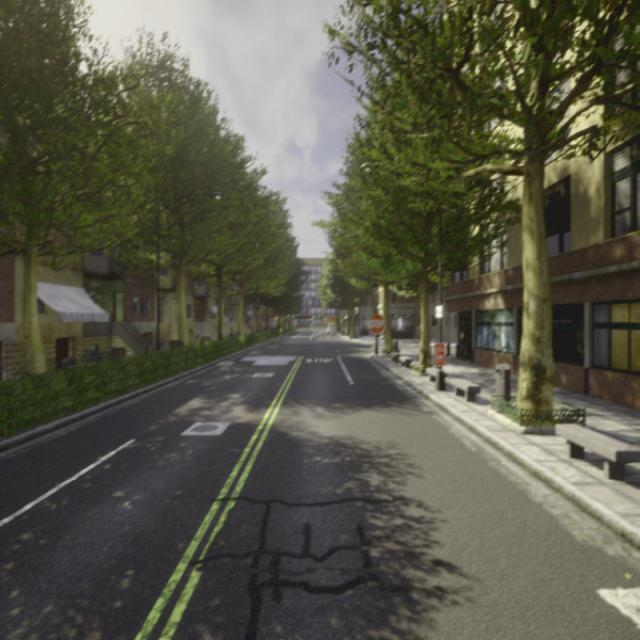stop sign: (367, 311, 386, 336)
